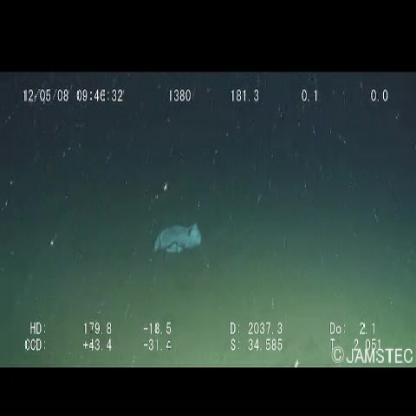Rác: (152, 221, 202, 255)
